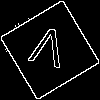V: (25, 25, 69, 78)
